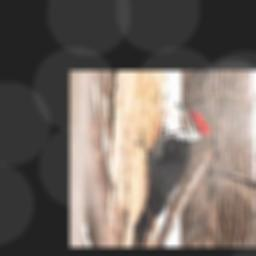Woodpecker: (133, 102, 212, 246)
